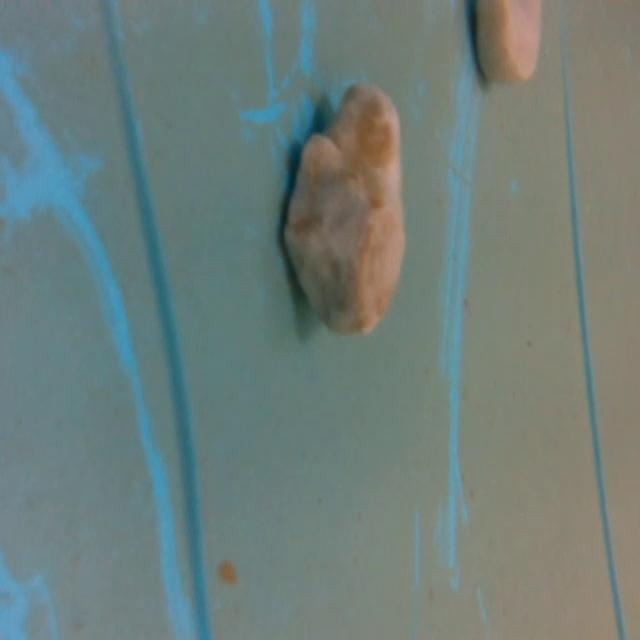rock: (272, 70, 414, 348), (470, 0, 548, 98)
